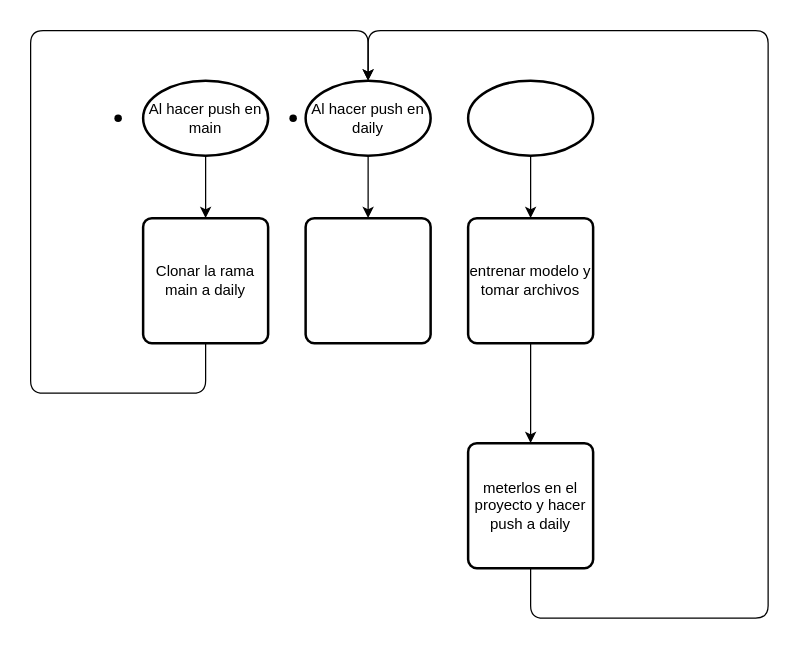
Image size: 800x650. Some labels were removed from this diagram. Here are the shapes that lost their labels. From the top down, the box of each, then its label:
(466, 79, 594, 156): Al finalizar un gather
(304, 216, 431, 344): Compilar la web
